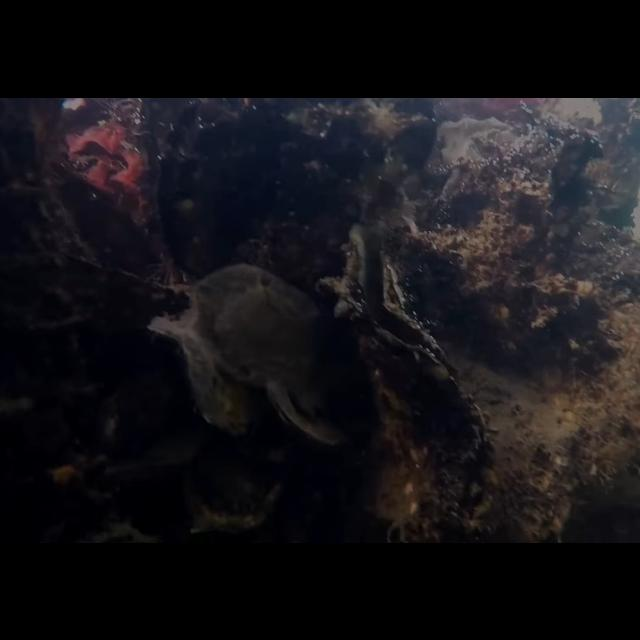Oyster-Closed: (188, 261, 364, 445)
Oyster-Open: (320, 222, 462, 388)
